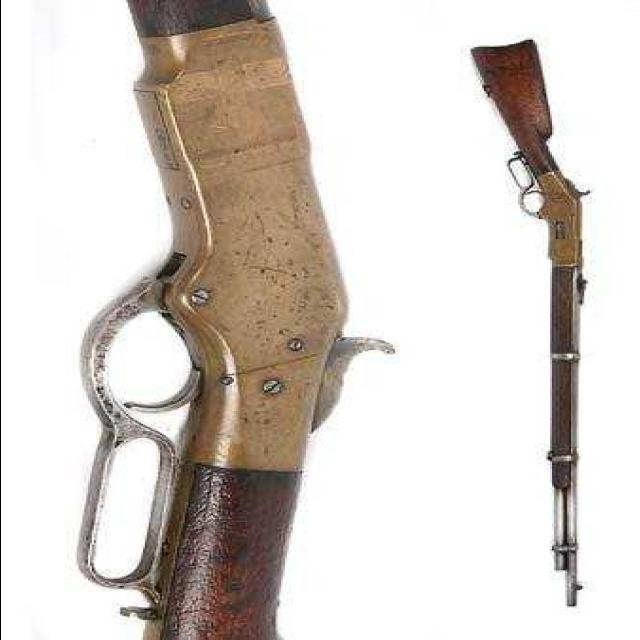heavyweapon: (49, 1, 327, 640), (418, 35, 604, 628)
